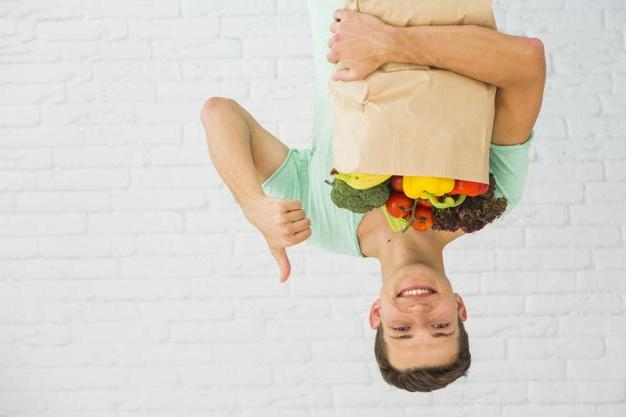thumbsdown: (273, 200, 312, 283)
